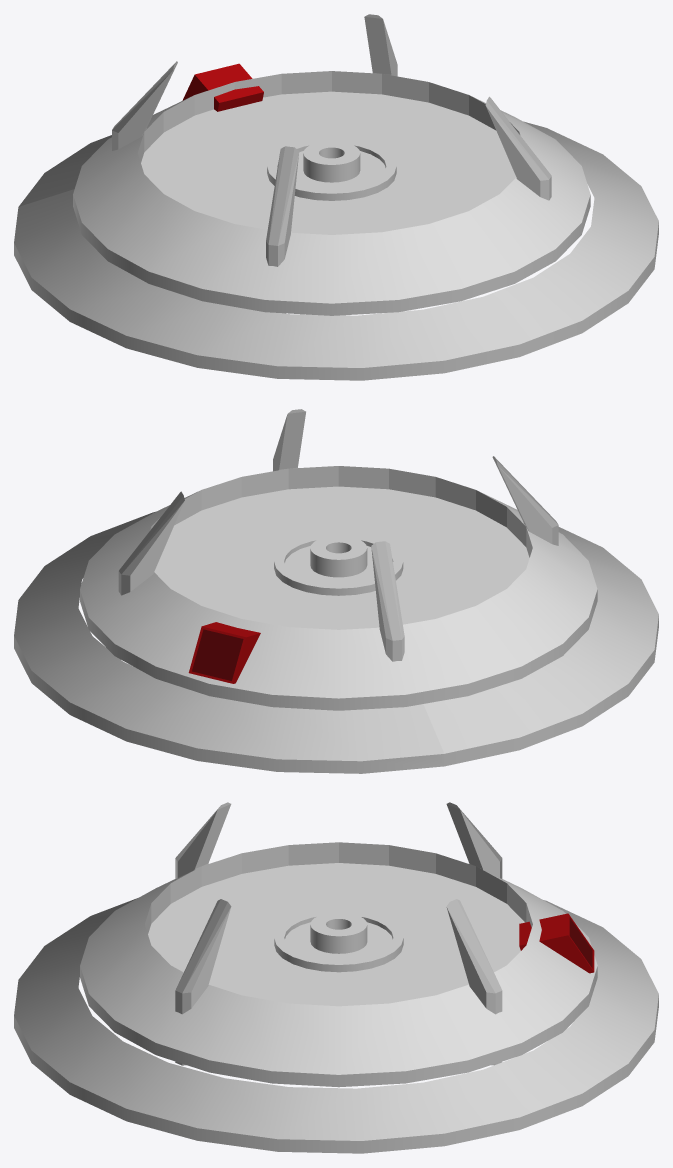
File: podium.glb
The picture shows the model from 3 angles, top to bottom: view 1: azimuth 30°, elevation 25°; view 2: azimuth 150°, elevation 25°; view 3: azimuth 270°, elevation 25°; orthographic projection.
Parts seen in each view (by area): view 1: holo podium; view 2: holo podium; view 3: holo podium.
Boxes of the visible parts, box(x1,y1,x2,y2) form: holo podium: box(14, 14, 658, 380); holo podium: box(14, 409, 658, 773); holo podium: box(14, 802, 658, 1153).
Bounding box in the file's own units: 18.54 × 5.19 × 18.54.
